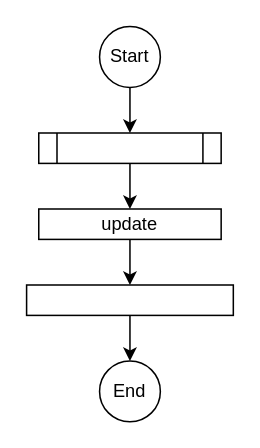
Image size: 260x448. Some labels were removed from this diagram. Each missing label, with the centre of its shape:
"publish event - updated" belongs at (x=129, y=299).
"validate" belongs at (x=129, y=147).
